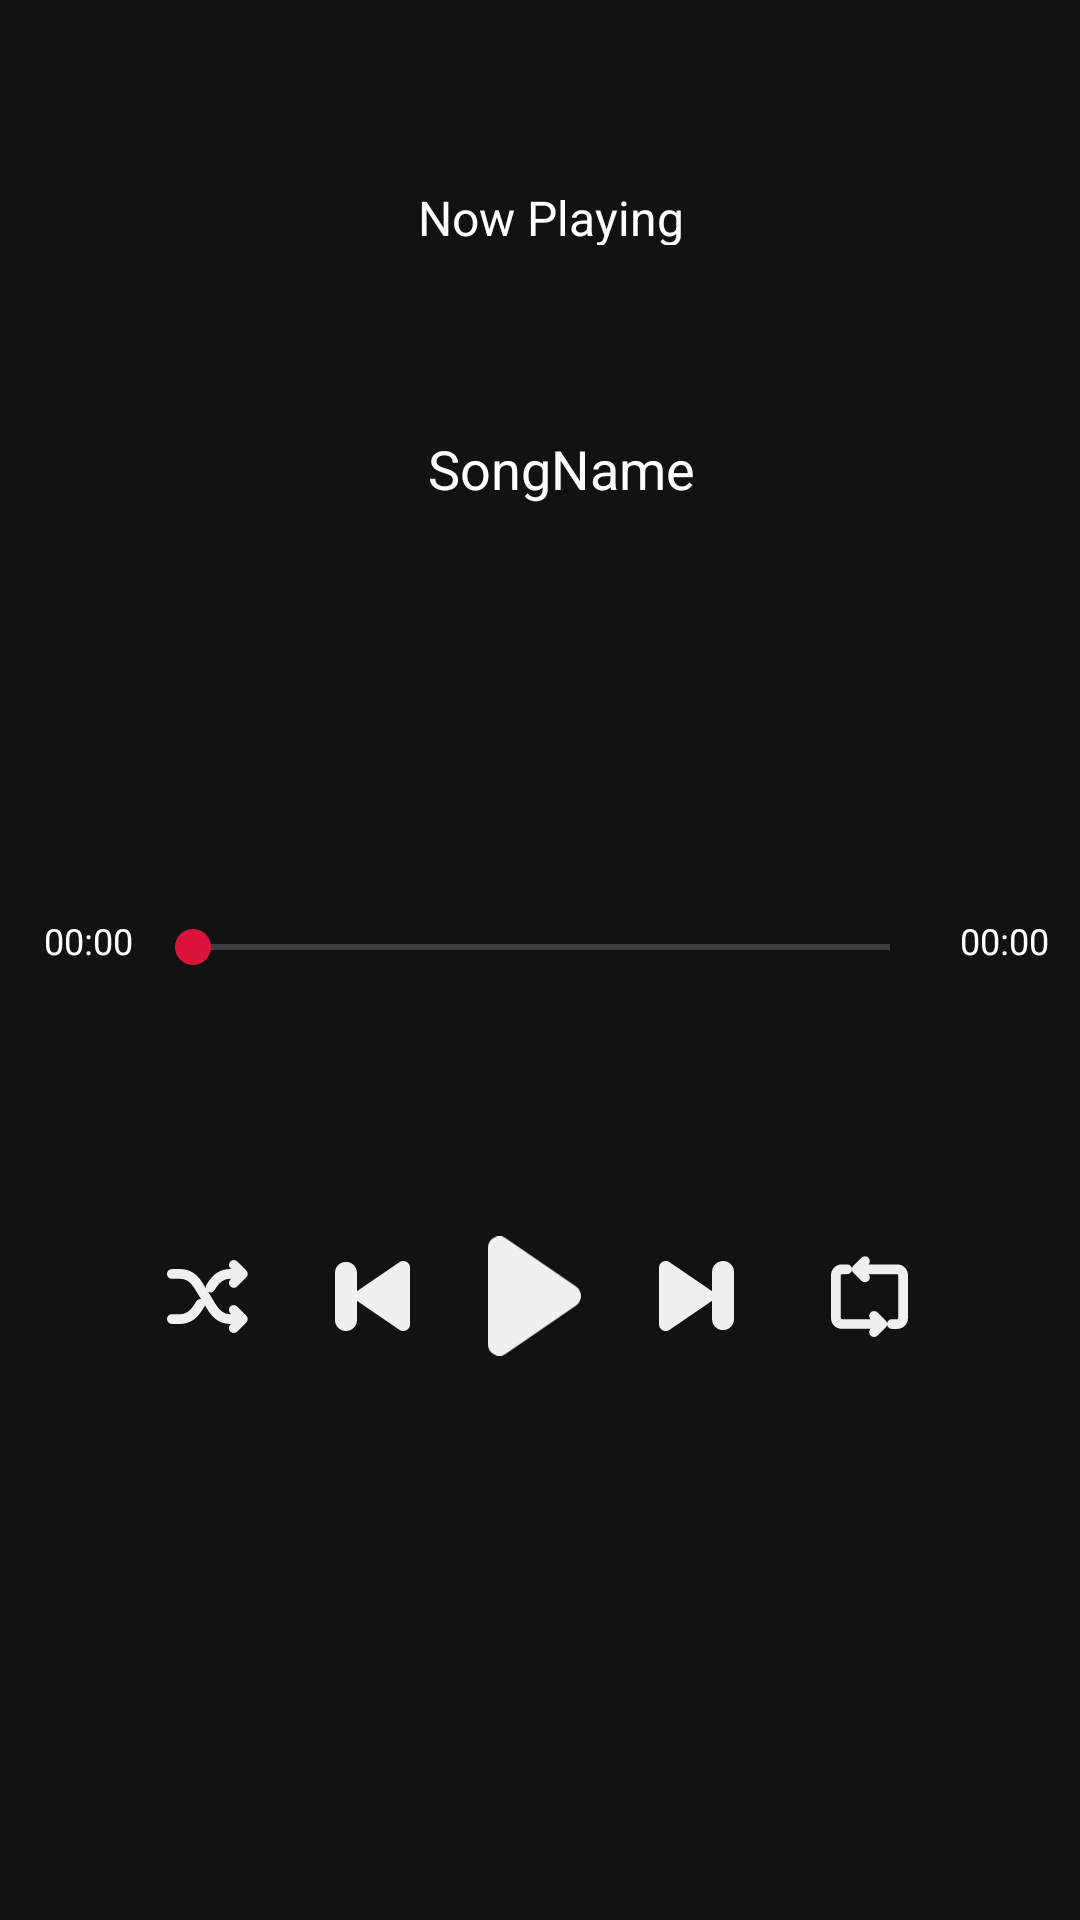

Named icons in this screenshot (1080px×1920px) and their bounding boxes, [left=x1, top=y1, right=x2, bottom=y2]:
next song: [left=659, top=1261, right=734, bottom=1331]
play: [left=488, top=1236, right=581, bottom=1356]
prev song: [left=335, top=1261, right=410, bottom=1331]
repeat: [left=831, top=1256, right=908, bottom=1337]
shuffle: [left=167, top=1260, right=248, bottom=1333]
